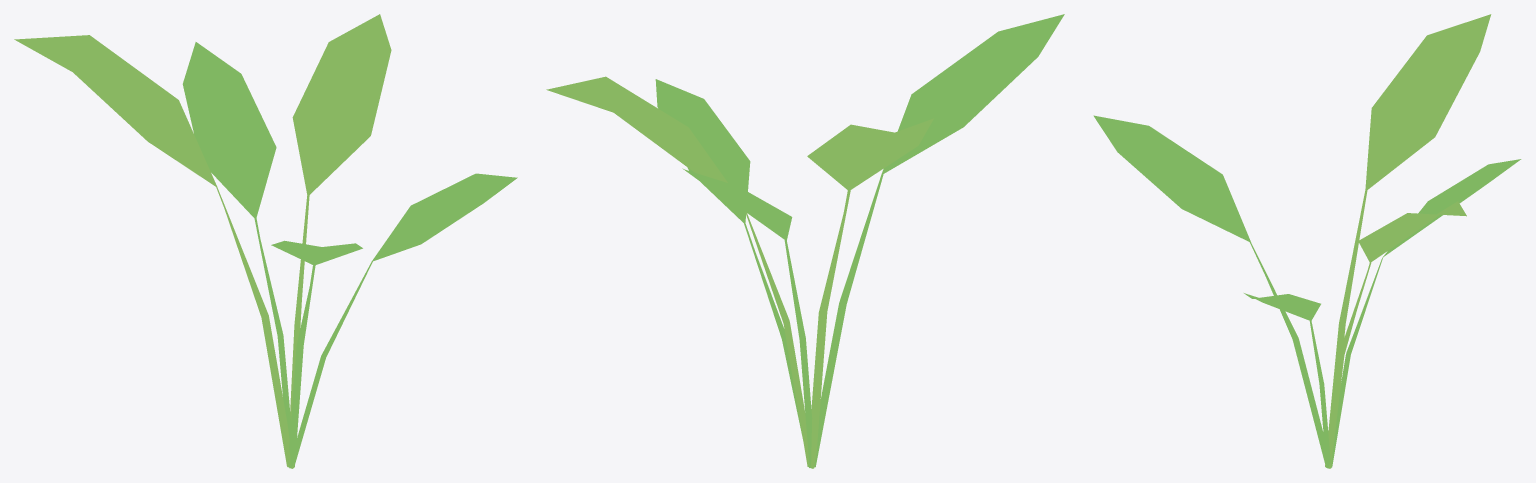
The model's file is Plant_j_OneS_04.fbx.
3 views of the same model, side by side, from view 1: azimuth 30°, elevation 25°; view 2: azimuth 150°, elevation 25°; view 3: azimuth 270°, elevation 25° (orthographic). The views are drawn at different scales.
Parts seen in each view (by area): view 1: Plant_j_OneS_04; view 2: Plant_j_OneS_04; view 3: Plant_j_OneS_04.
Boxes of the visible parts, <box> form: Plant_j_OneS_04: <box>14,14,517,468</box>; Plant_j_OneS_04: <box>546,14,1064,468</box>; Plant_j_OneS_04: <box>1093,14,1521,468</box>.
Bounding box in the file's own units: 0.5032 × 0.528 × 0.5536.
